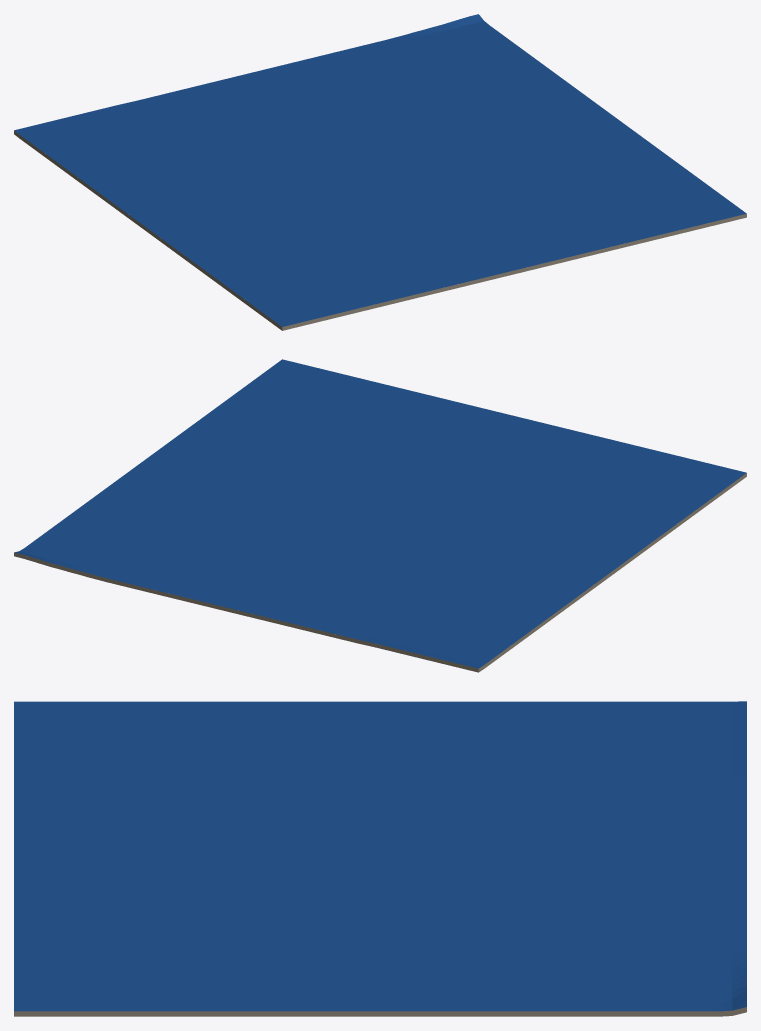
File: parca_+3_-10-uzak.glb
The picture shows the model from 3 angles, top to bottom: view 1: azimuth 30°, elevation 25°; view 2: azimuth 150°, elevation 25°; view 3: azimuth 270°, elevation 25°; orthographic projection. The views are drawn at different scales.
Parts seen in each view (by area): view 1: parca_+3_-10_arazi_uzak; view 2: parca_+3_-10_arazi_uzak; view 3: parca_+3_-10_arazi_uzak.
Part boxes in pixels (x1,y1,x2,y2): parca_+3_-10_arazi_uzak: (14, 14, 746, 330); parca_+3_-10_arazi_uzak: (14, 359, 746, 672); parca_+3_-10_arazi_uzak: (14, 701, 746, 1016).
Bounding box in the file's own units: 1000 × 14.71 × 1000.
